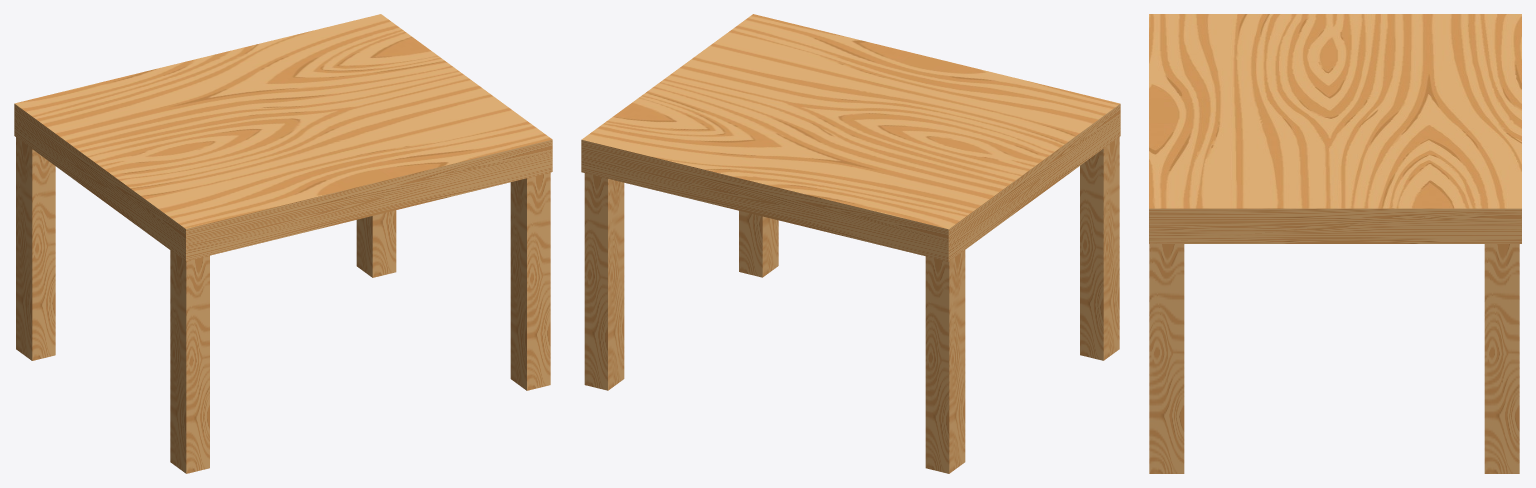
Rendered from Table.FBX.
3 views of the same model, side by side, from view 1: azimuth 30°, elevation 25°; view 2: azimuth 150°, elevation 25°; view 3: azimuth 270°, elevation 25° (orthographic). The views are drawn at different scales.
Visible parts, largest first — view 1: Box001; view 2: Box001; view 3: Box001.
Part boxes in pixels (left/top/right/bottom): Box001: left=14, top=14, right=552, bottom=473; Box001: left=581, top=14, right=1120, bottom=473; Box001: left=1149, top=14, right=1521, bottom=473.
Size of the model in its own units: 126 by 80.18 by 102.
1 material, 1 textured.
